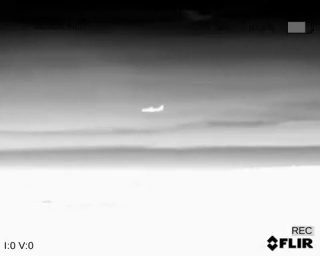AIRPLANE: (141, 103, 164, 115)
